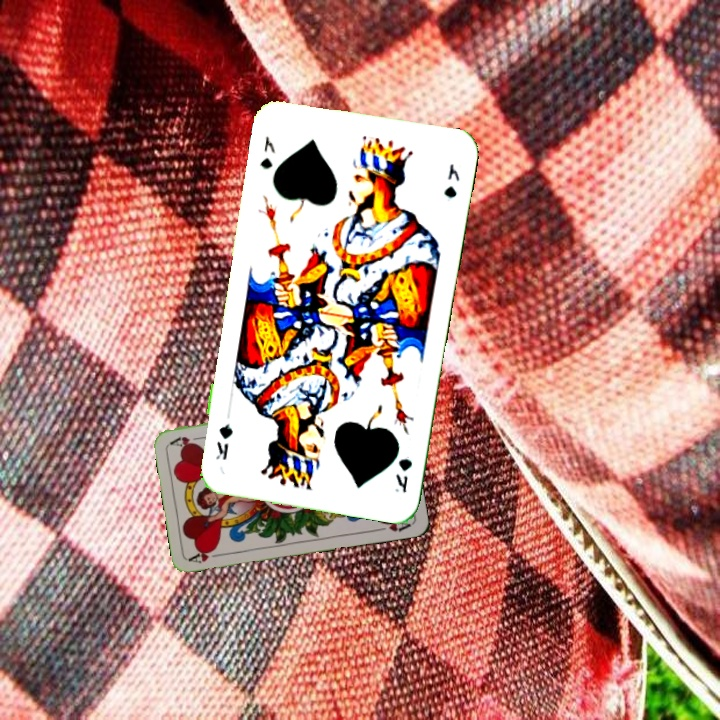GK: (391, 454, 415, 496), (256, 132, 278, 172)
HA: (186, 544, 227, 566)
